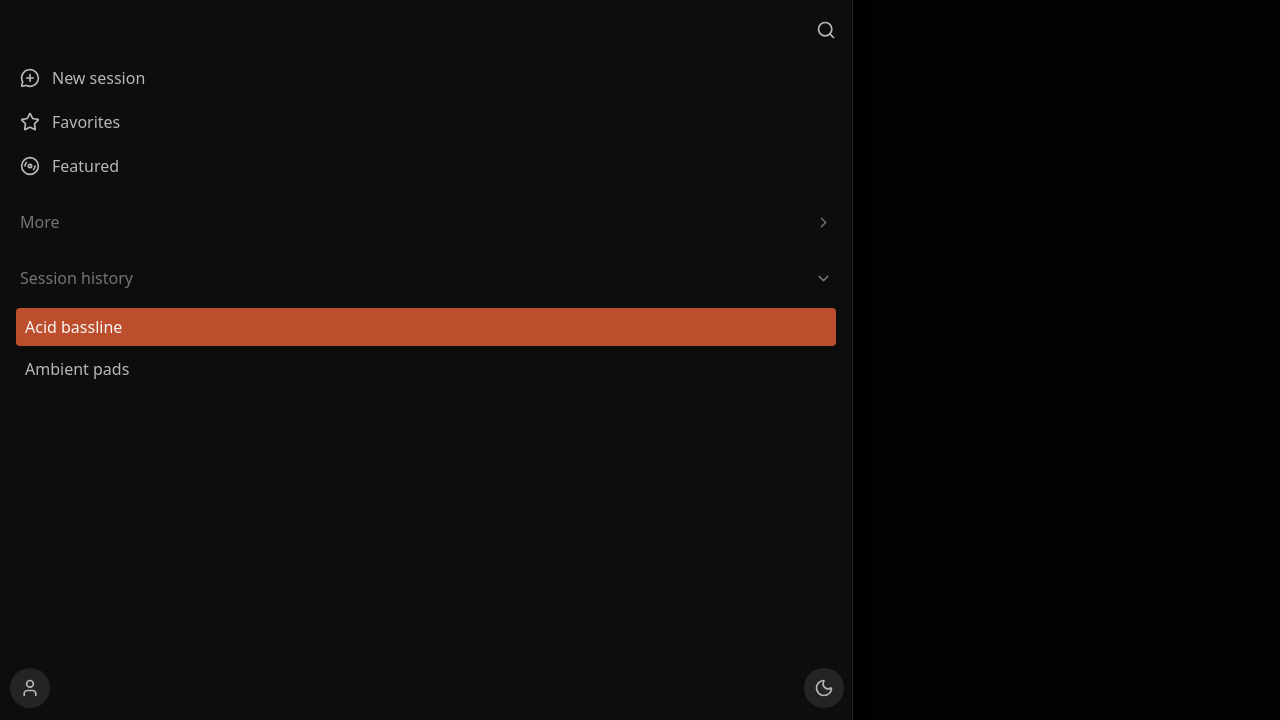
Scenario: MobileNavDrawer search › opens the field from the head key and takes the focus
Click the button with test id "drawer-search-open" at (826, 30), box [808,12,844,48]
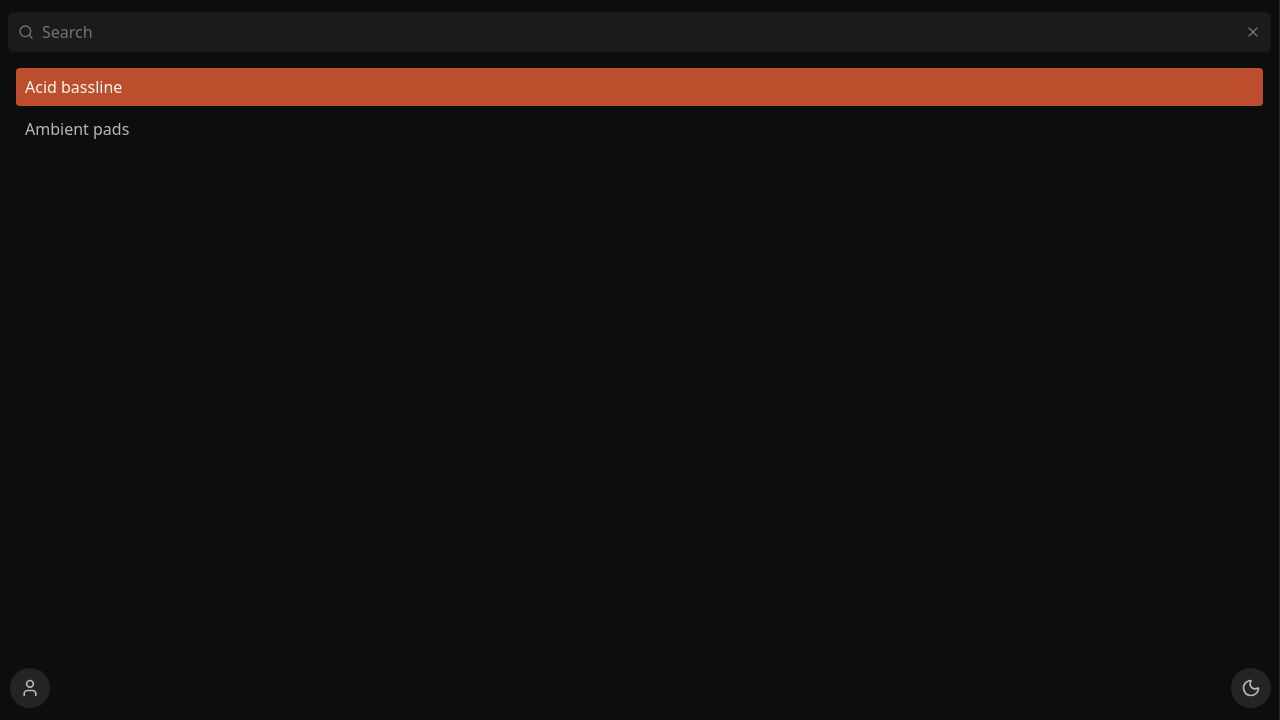
expect the field with test id "drawer-search-input" is shown: met, box [42,20,1237,44]
